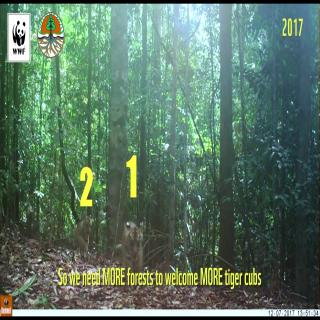Tiger: (117, 214, 145, 268), (71, 212, 93, 256)
